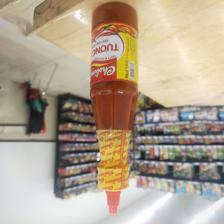Tuong: (89, 1, 139, 217)
